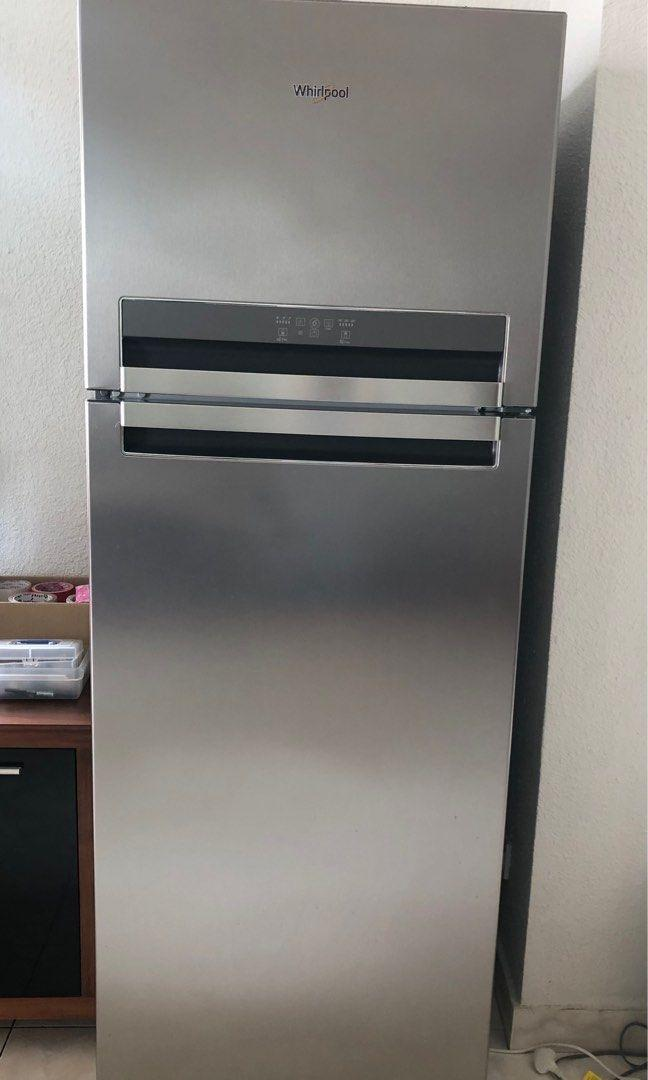Fridge: (79, 0, 570, 1080)
